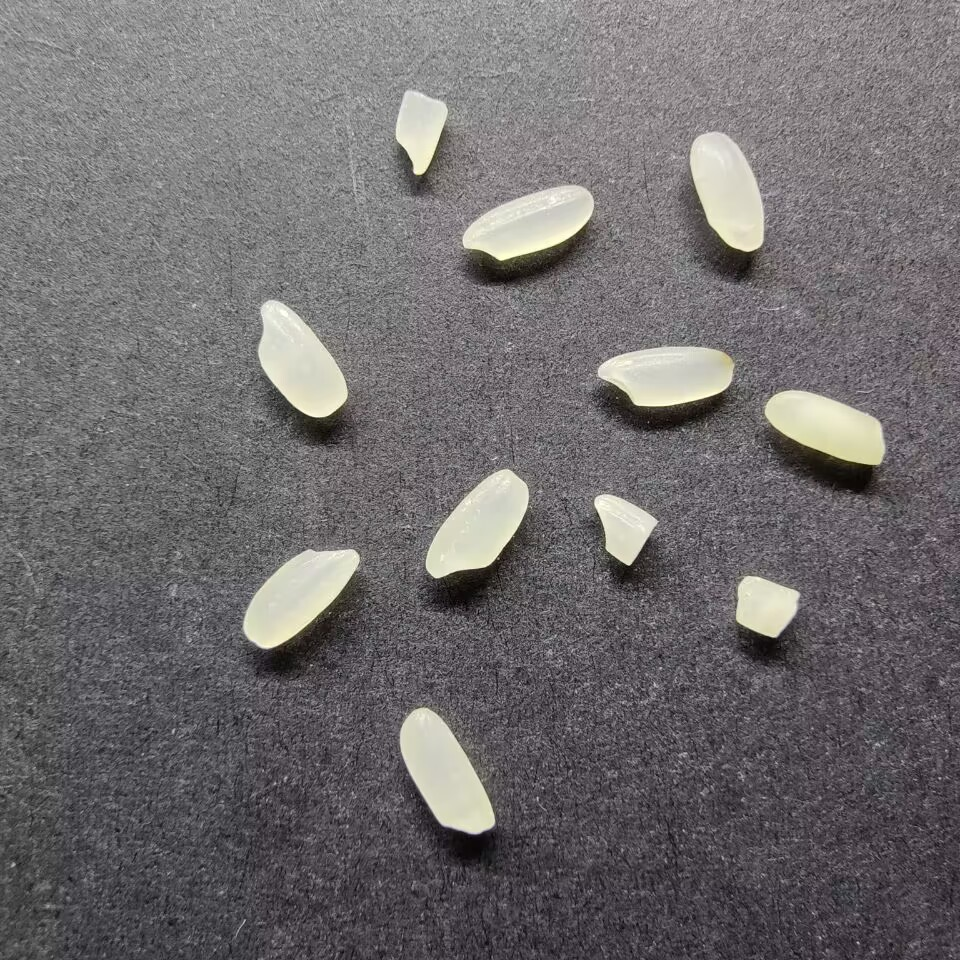broken: (592, 491, 660, 567), (392, 89, 449, 176), (732, 572, 802, 641)
rice: (396, 704, 496, 836), (240, 545, 361, 651), (423, 465, 529, 581), (254, 298, 348, 420), (462, 182, 593, 264), (763, 388, 887, 467), (687, 130, 766, 252), (594, 344, 735, 409)
